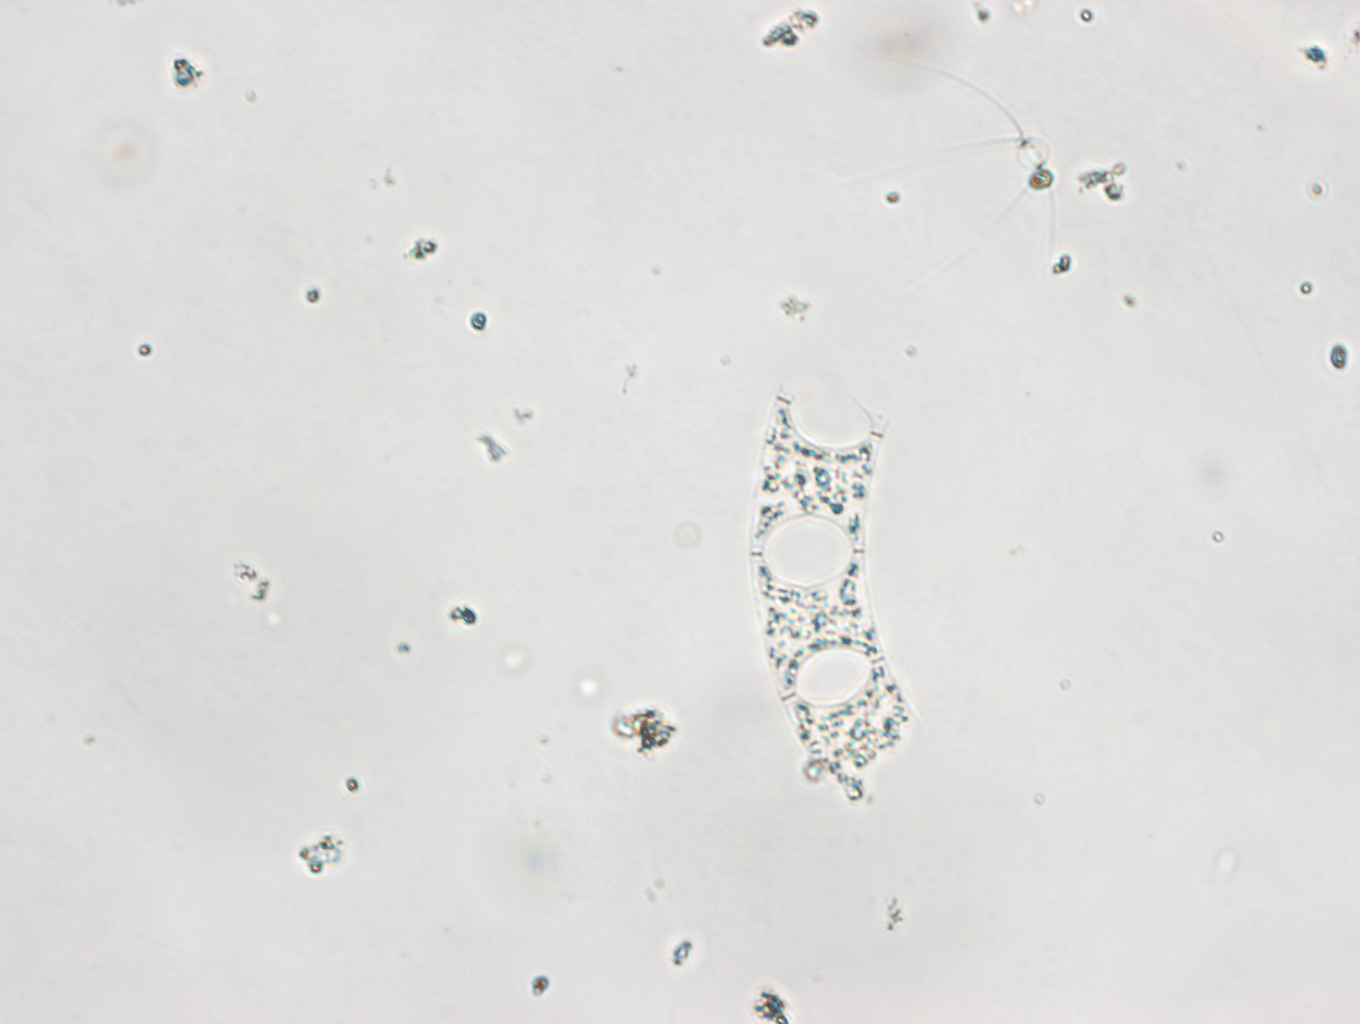eucampia: (736, 364, 913, 792)
